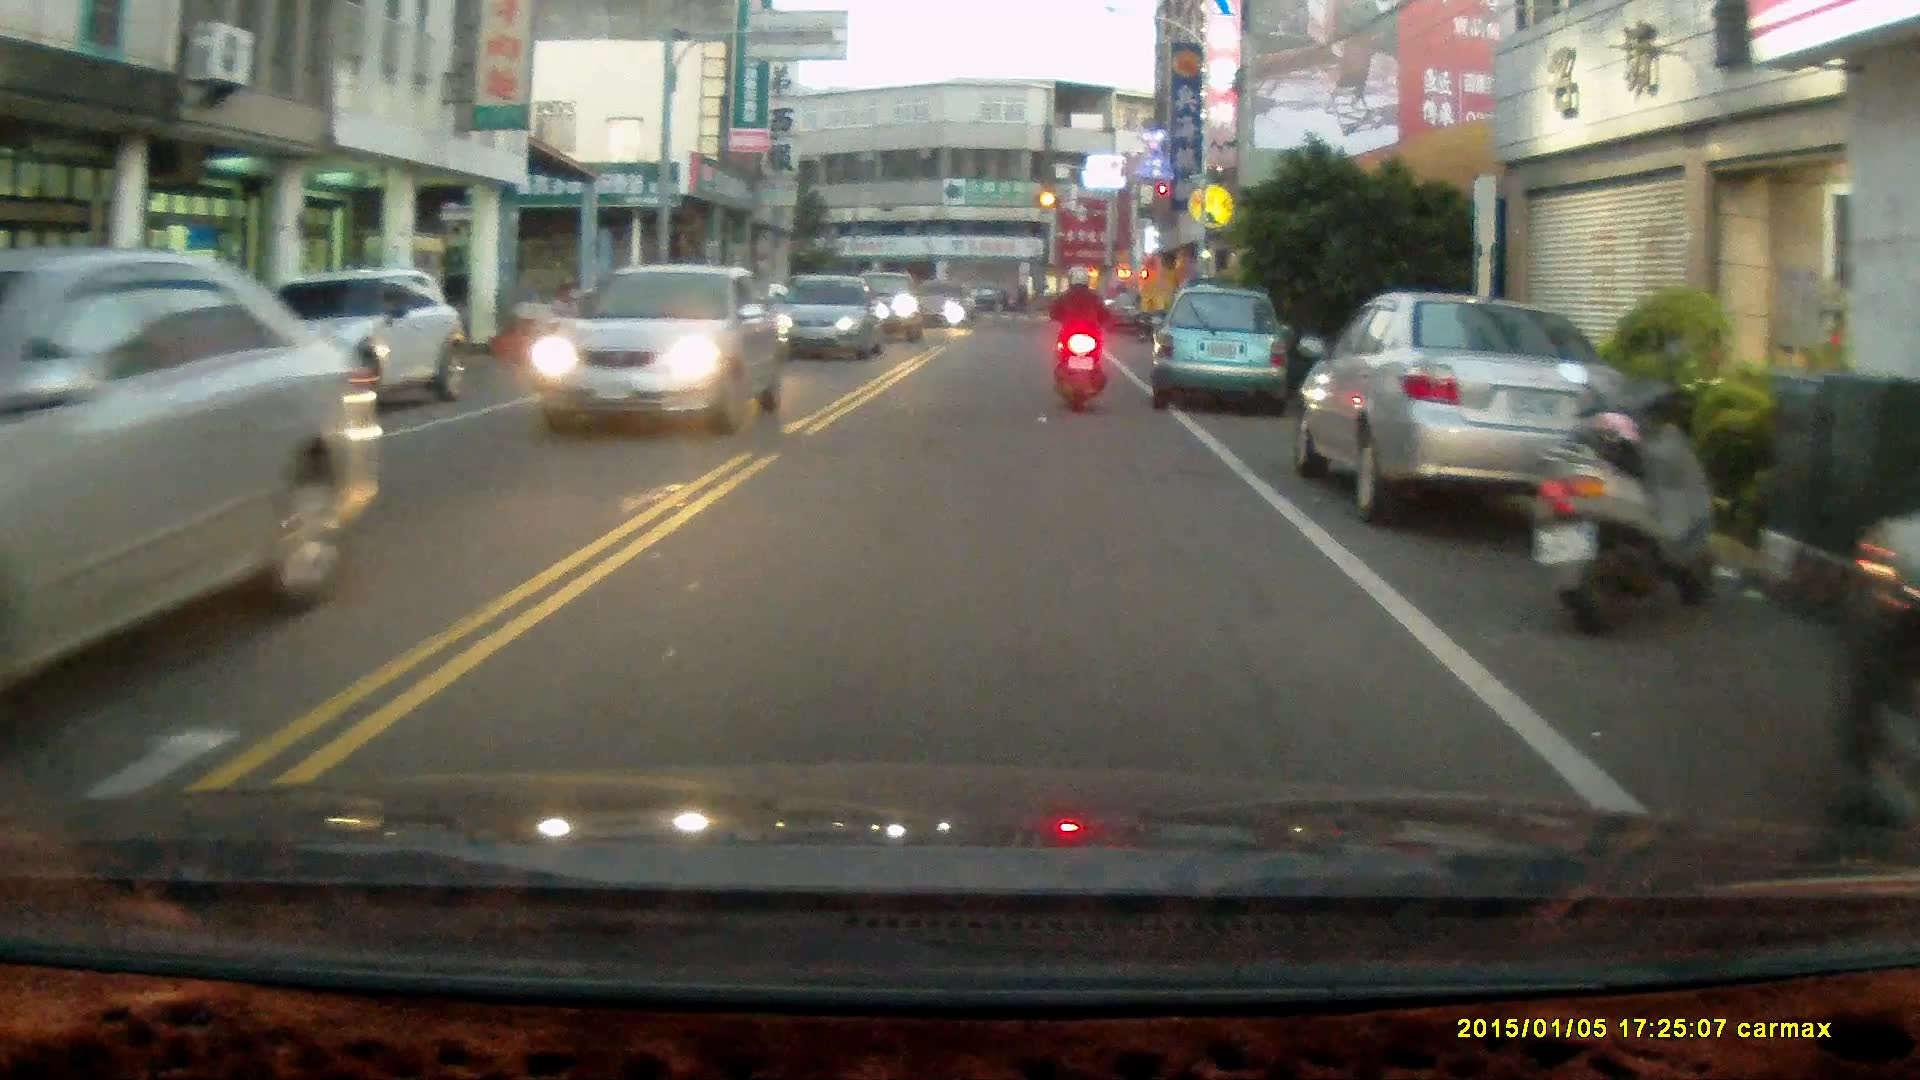rider: (1046, 263, 1112, 411)
vehicle: (4, 248, 366, 741), (1286, 293, 1645, 524), (529, 268, 789, 436), (227, 268, 471, 411), (1840, 509, 1920, 830), (1150, 283, 1295, 420), (771, 281, 887, 365)
